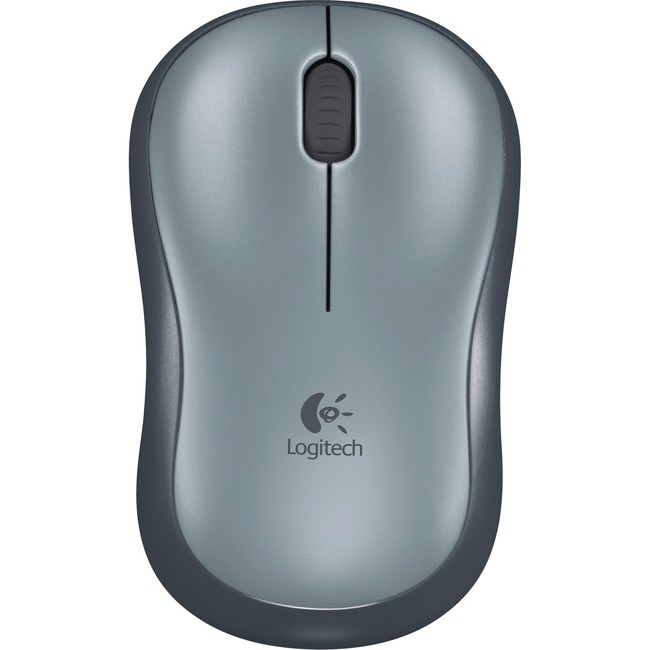logitech-mouse-m185: (128, 4, 530, 649)
